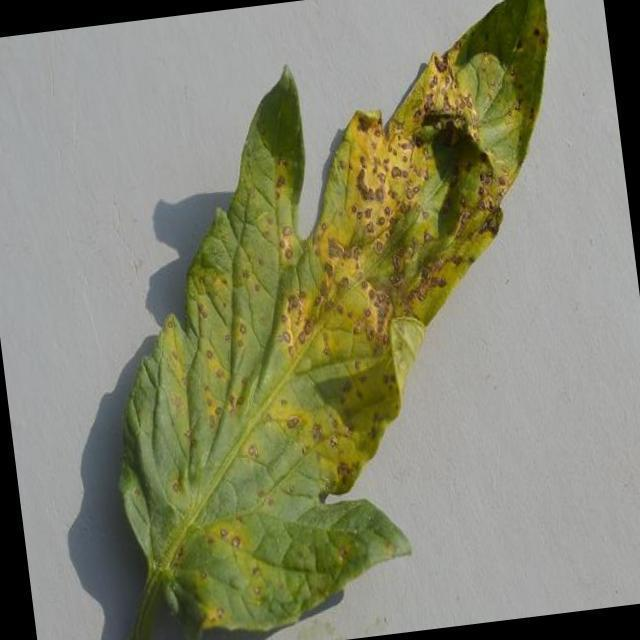Septoria: (102, 76, 526, 617)
